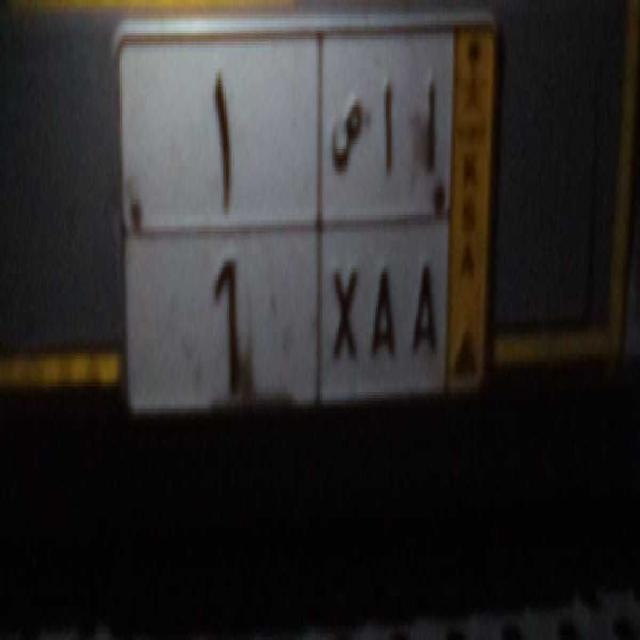license_plate: (129, 212, 450, 417)
